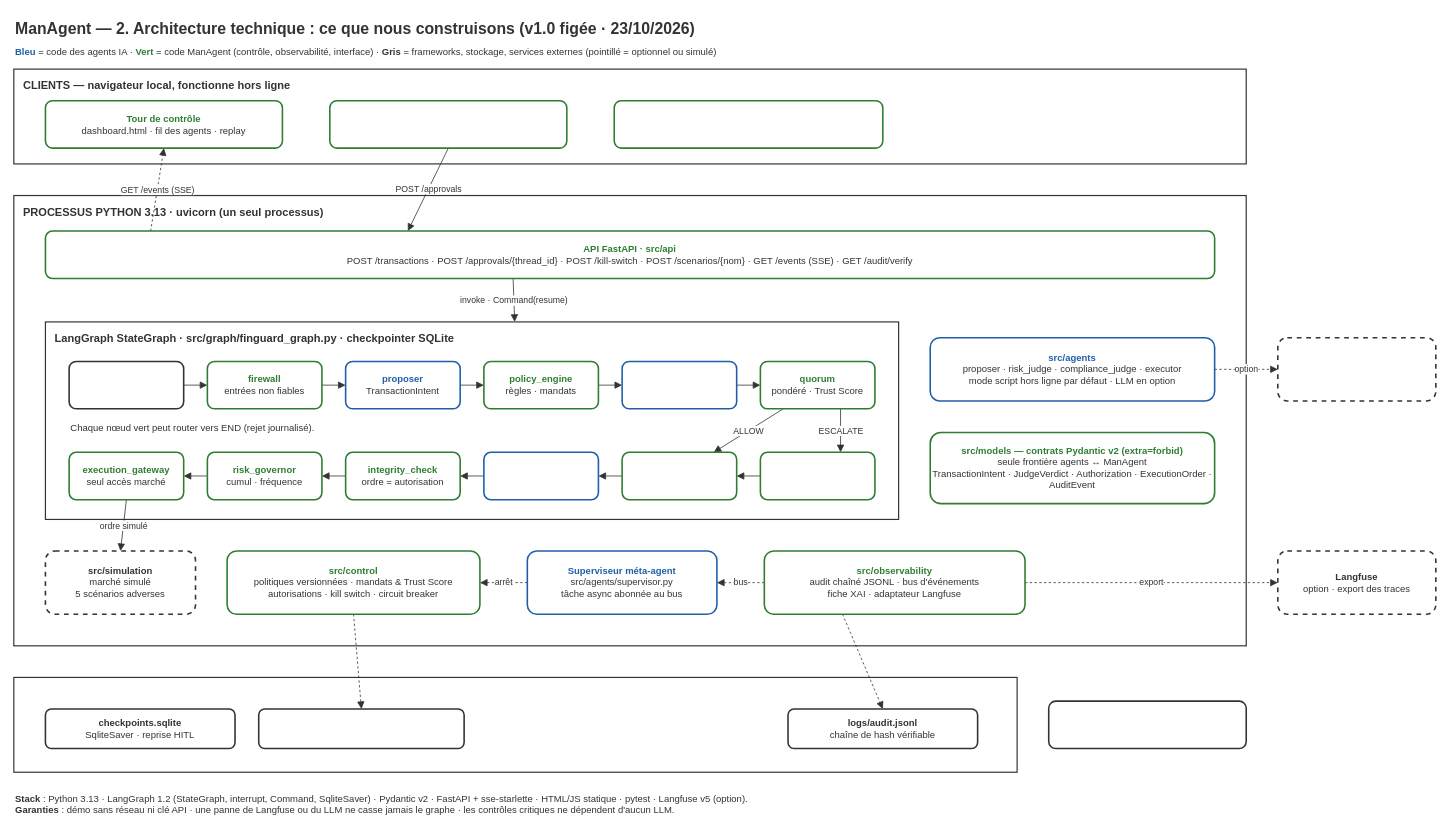
This 1450x837 diagram has some shape labels left out. The shapes that lost their labels are listed below. From the top down, each one's box as (x1, y1, x2, y2) in pixels, then its label:
(329, 100, 567, 149): Carte d'approbation (mobile) Approuver · Rejeter · Rapport XAI
(613, 100, 883, 149): CLI démo — plan B scripts/run_demo.py · invoque le graphe sans API
(68, 360, 184, 409): START TransactionRequest
(621, 360, 737, 409): judges ∥ risque · conformité
(1277, 337, 1436, 401): Fournisseur LLM option · init_chat_model
(483, 451, 599, 500): executor ExecutionOrder
(621, 451, 737, 500): authorize hash SHA-256
(759, 451, 875, 500): hitl_gate interrupt()
(258, 708, 465, 749): config/*.yaml politiques · mandats (versionnés)
(13, 676, 1017, 772): STOCKAGE LOCAL
(1048, 700, 1247, 749): Tests pytest 1 test par scénario adverse + invariants
